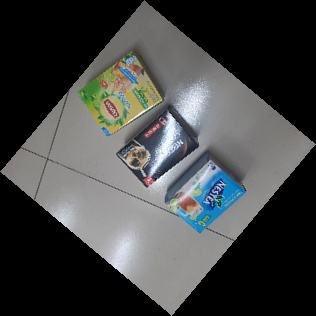CF Viet: (115, 107, 202, 190)
LipTon: (74, 49, 166, 139)
Nestea: (166, 148, 245, 239)
